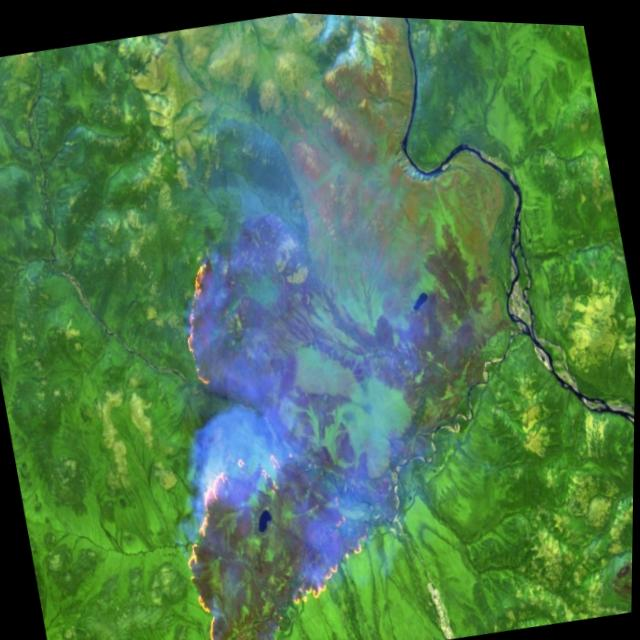fire: (124, 226, 401, 640)
